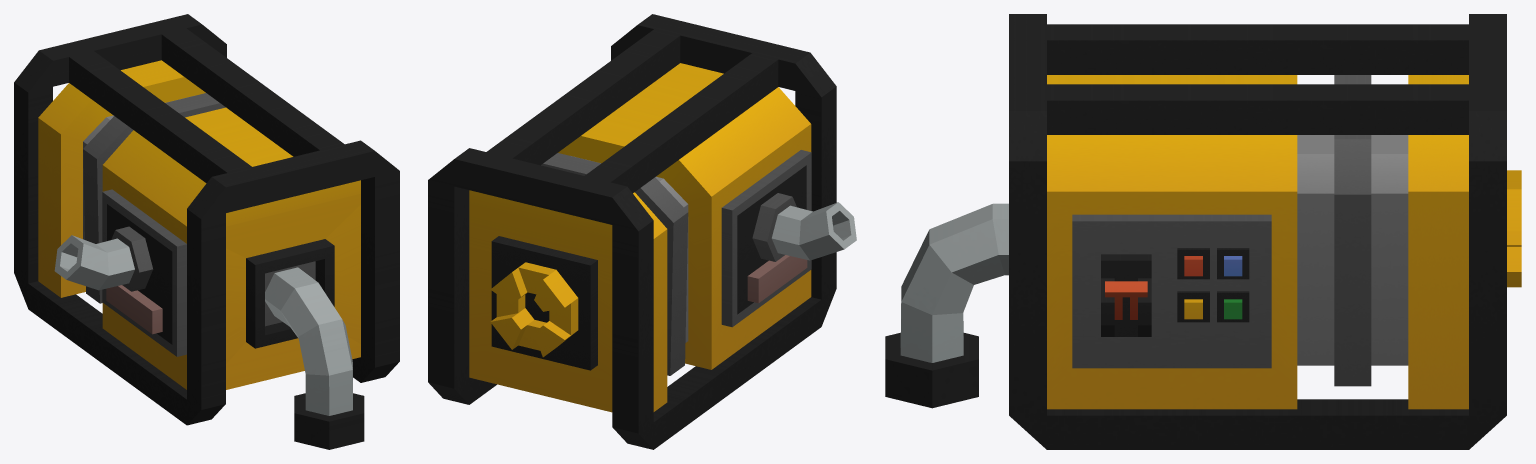
File: Electric Pump.obj
The picture shows the model from 3 angles, left to right: view 1: azimuth 30°, elevation 25°; view 2: azimuth 150°, elevation 25°; view 3: azimuth 270°, elevation 25°; orthographic projection. The views are drawn at different scales.
Parts seen in each view (by area): view 1: Cube.001_Cube.002, Cube, Plane.001_Plane.004, Plane.003_Plane.007; view 2: Cube, Cube.001_Cube.002, Plane.003_Plane.007; view 3: Cube, Cube.001_Cube.002, Plane.001_Plane.004.
Boxes of the visible parts, x1=… form: Cube.001_Cube.002: x1=14, y1=14, x2=399, y2=425; Cube: x1=38, y1=60, x2=360, y2=389; Plane.001_Plane.004: x1=265, y1=267, x2=364, y2=449; Plane.003_Plane.007: x1=54, y1=226, x2=153, y2=291; Cube: x1=469, y1=63, x2=811, y2=412; Cube.001_Cube.002: x1=428, y1=14, x2=836, y2=449; Plane.003_Plane.007: x1=752, y1=193, x2=856, y2=261; Cube: x1=1047, y1=75, x2=1521, y2=409; Cube.001_Cube.002: x1=1009, y1=14, x2=1506, y2=449; Plane.001_Plane.004: x1=885, y1=203, x2=1008, y2=408.
Size of the model in its own units: 2.02 by 1.5 by 2.68.
